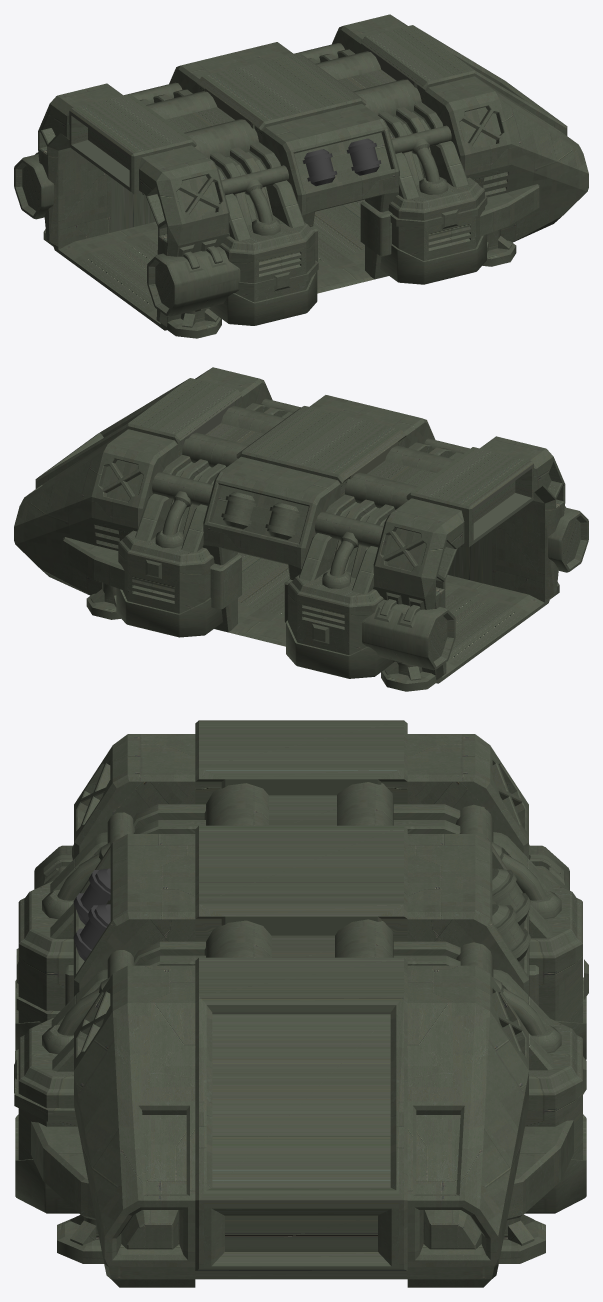
Rendered from ai_help.fbx.
3 views of the same model, one above another, from view 1: azimuth 30°, elevation 25°; view 2: azimuth 150°, elevation 25°; view 3: azimuth 270°, elevation 25° (orthographic). The views are drawn at different scales.
Parts seen in each view (by area): view 1: Ship_Part_01, Ship_Cylinder_02, Engine_Top_Fornt_Right, Engine_Top_Bckr_Right, Engine_Bottom_Front_Right, Engine_Bottom_Back_Right, Ship_Part_04, Ship_Part_08, Ship_Body_01, Ship_Cylinder_24, Ship_Cylinder_22, Ship_Body_04 (+17 smaller); view 2: Ship_Part_01, Ship_Cylinder_02, Engine_Top_Fornt_Right, Engine_Top_Bckr_Right, Engine_Bottom_Front_Right, Engine_Bottom_Back_Right, Ship_Part_04, Ship_Body_01, Ship_Part_08, Ship_Cylinder_25, Ship_Cylinder_23, Ship_Cylinder_05 (+14 smaller); view 3: Ship_Part_01, Engine_Top_Bckr_Right, Engine_Top_Fornt_Right, Ship_Body_01, Engine_Bottom_Front_Right, Ship_Part_04, Ship_Part_08, Ship_Cylinder_24, Ship_Part_24, Ship_Cylinder_25, Ship_Cylinder_22, Ship_Cylinder_23 (+14 smaller).
Part boxes in pixels (left/top/right/bottom): Ship_Part_01: left=38, top=14, right=588, bottom=330; Ship_Cylinder_02: left=14, top=154, right=240, bottom=316; Engine_Top_Fornt_Right: left=388, top=177, right=484, bottom=260; Engine_Top_Bckr_Right: left=219, top=214, right=315, bottom=302; Engine_Bottom_Front_Right: left=380, top=234, right=486, bottom=284; Engine_Bottom_Back_Right: left=210, top=271, right=317, bottom=325; Ship_Part_04: left=139, top=89, right=280, bottom=225; Ship_Part_08: left=308, top=49, right=442, bottom=185; Ship_Body_01: left=480, top=184, right=539, bottom=236; Ship_Cylinder_24: left=184, top=119, right=258, bottom=158; Ship_Cylinder_22: left=353, top=79, right=421, bottom=116; Ship_Body_04: left=360, top=201, right=392, bottom=256; Ship_Part_01: left=14, top=367, right=565, bottom=683; Ship_Cylinder_02: left=362, top=507, right=588, bottom=670; Engine_Top_Fornt_Right: left=118, top=530, right=214, bottom=613; Engine_Top_Bckr_Right: left=288, top=568, right=383, bottom=654; Engine_Bottom_Front_Right: left=116, top=588, right=222, bottom=637; Engine_Bottom_Back_Right: left=286, top=620, right=393, bottom=678; Ship_Part_04: left=325, top=442, right=463, bottom=578; Ship_Body_01: left=63, top=537, right=124, bottom=590; Ship_Part_08: left=162, top=403, right=293, bottom=538; Ship_Cylinder_25: left=345, top=472, right=417, bottom=509; Ship_Cylinder_23: left=182, top=432, right=248, bottom=467; Ship_Cylinder_05: left=314, top=512, right=383, bottom=547; Ship_Part_01: left=73, top=720, right=529, bottom=1287; Engine_Top_Bckr_Right: left=18, top=881, right=582, bottom=1022; Engine_Top_Fornt_Right: left=18, top=1018, right=582, bottom=1159; Ship_Body_01: left=31, top=1120, right=573, bottom=1220; Engine_Bottom_Front_Right: left=15, top=1114, right=586, bottom=1213; Ship_Part_04: left=133, top=804, right=460, bottom=833; Ship_Part_08: left=134, top=941, right=460, bottom=965; Ship_Cylinder_24: left=204, top=783, right=268, bottom=825; Ship_Part_24: left=57, top=1218, right=545, bottom=1263; Ship_Cylinder_25: left=337, top=782, right=393, bottom=825; Ship_Cylinder_22: left=204, top=920, right=271, bottom=957; Ship_Cylinder_23: left=335, top=919, right=393, bottom=957.
Bounding box in the file's own units: 4033 × 1408 × 2747.
